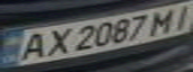0: (93, 19, 118, 48)
2: (72, 21, 96, 52)
7: (127, 11, 154, 40)
8: (112, 16, 136, 45)
A: (12, 29, 51, 62)
I: (163, 1, 193, 31)
M: (145, 6, 184, 35)
X: (39, 26, 75, 59)
